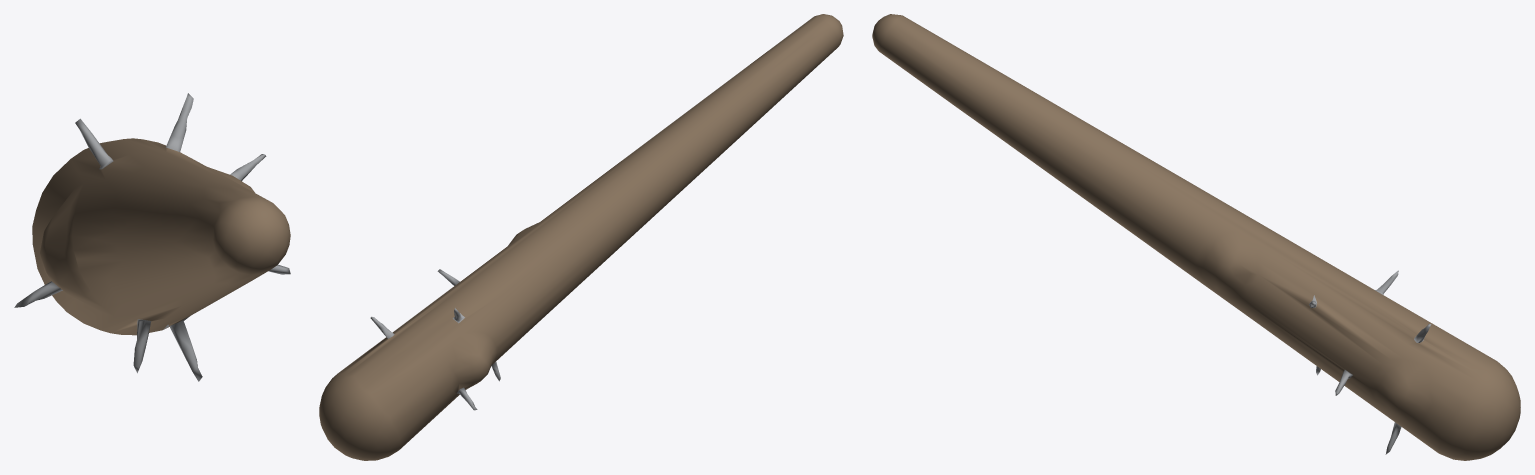
File: ClubStowed.fbx
The picture shows the model from 3 angles, left to right: view 1: azimuth 30°, elevation 25°; view 2: azimuth 150°, elevation 25°; view 3: azimuth 270°, elevation 25°; orthographic projection. The views are drawn at different scales.
Parts seen in each view (by area): view 1: ClubStowed; view 2: ClubStowed; view 3: ClubStowed.
Boxes of the visible parts, x1,y1,x2,y2 form: ClubStowed: (14,93,290,381); ClubStowed: (319,14,843,460); ClubStowed: (872,14,1520,460).
Bounding box in the file's own units: 18.15 × 20.26 × 35.72.
